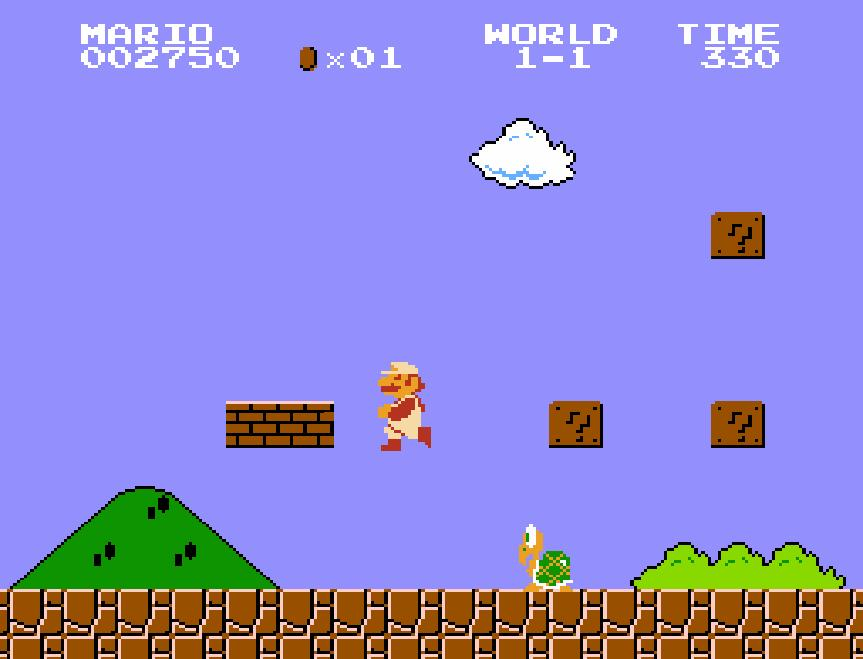fire_mario: (376, 354, 434, 452)
